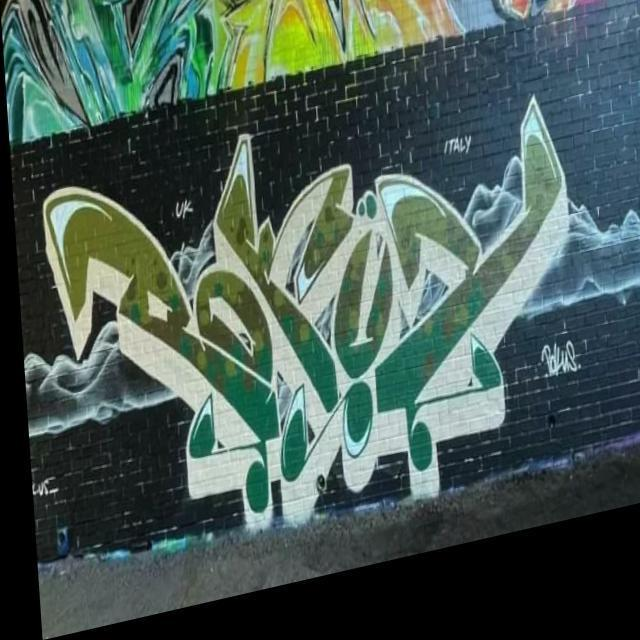-: (9, 52, 640, 570), (528, 344, 588, 432), (434, 132, 484, 198), (24, 457, 61, 512), (162, 195, 195, 235)
